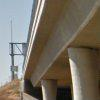Bridge: (16, 3, 93, 95)
